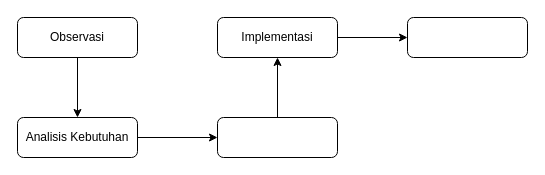
Image size: 545x175. Some labels were removed from this diagram. The centre of each missing label's shape, as x and y in pixels:
Pengujian/Testing: the point at 467,37
Perancangan: the point at 277,137
